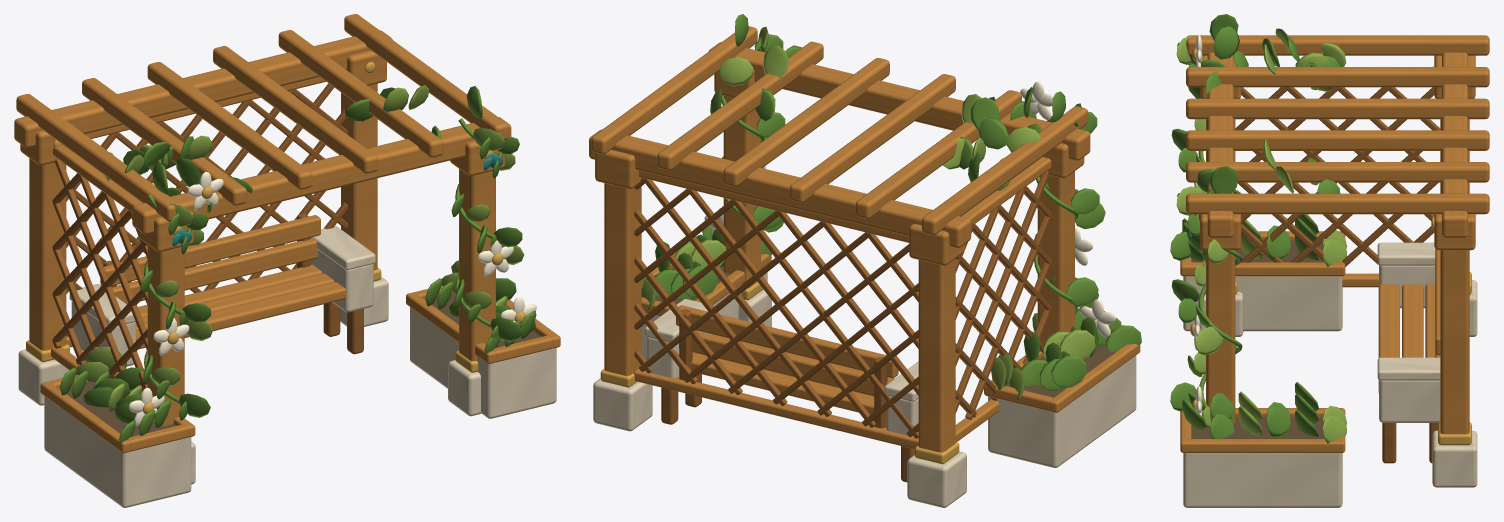
The model's file is pergola-rest-nook.glb.
3 renders of one model, left to right at view 1: azimuth 30°, elevation 25°; view 2: azimuth 150°, elevation 25°; view 3: azimuth 270°, elevation 25°, orthographic.
Parts seen in each view (by area): view 1: pergola-tree-bench-wood, pergola-tree-bench-stone, pergola-tree-bench-frame, pergola-pergola-leaves, pergola-pergola-young-leaves, pergola-pergola-petals, pergola-tree-bench-brass, pergola-pergola-soil; view 2: pergola-tree-bench-wood, pergola-tree-bench-frame, pergola-tree-bench-stone, pergola-pergola-leaves, pergola-pergola-young-leaves, pergola-pergola-petals, pergola-tree-bench-brass, pergola-pergola-soil; view 3: pergola-tree-bench-wood, pergola-tree-bench-stone, pergola-pergola-leaves, pergola-tree-bench-frame, pergola-pergola-young-leaves, pergola-pergola-soil, pergola-tree-bench-brass, pergola-pergola-petals.
Boxes of the visible parts, x1,y1,x2,y2 form: pergola-tree-bench-wood: [14, 14, 560, 453]; pergola-tree-bench-stone: [18, 226, 556, 507]; pergola-tree-bench-frame: [52, 83, 363, 393]; pergola-pergola-leaves: [60, 86, 536, 444]; pergola-pergola-young-leaves: [76, 85, 524, 411]; pergola-pergola-petals: [129, 172, 536, 425]; pergola-tree-bench-brass: [26, 62, 525, 414]; pergola-pergola-soil: [59, 292, 541, 436]; pergola-tree-bench-wood: [589, 26, 1140, 452]; pergola-tree-bench-frame: [634, 171, 1051, 482]; pergola-tree-bench-stone: [593, 272, 1136, 507]; pergola-pergola-leaves: [654, 14, 1141, 390]; pergola-pergola-young-leaves: [641, 26, 1095, 400]; pergola-pergola-petals: [704, 81, 1115, 337]; pergola-tree-bench-brass: [600, 282, 959, 464]; pergola-pergola-soil: [655, 266, 1115, 397]; pergola-tree-bench-wood: [1180, 35, 1489, 452]; pergola-tree-bench-stone: [1183, 242, 1477, 507]; pergola-pergola-leaves: [1170, 14, 1340, 438]; pergola-tree-bench-frame: [1235, 87, 1440, 463]; pergola-pergola-young-leaves: [1176, 28, 1346, 443]; pergola-pergola-soil: [1191, 240, 1324, 438]; pergola-tree-bench-brass: [1190, 48, 1471, 445]; pergola-pergola-petals: [1194, 35, 1202, 416].
Bounding box in the file's own units: 5.45 × 3.69 × 3.41.
Materials: 9 (3 with a texture image).
